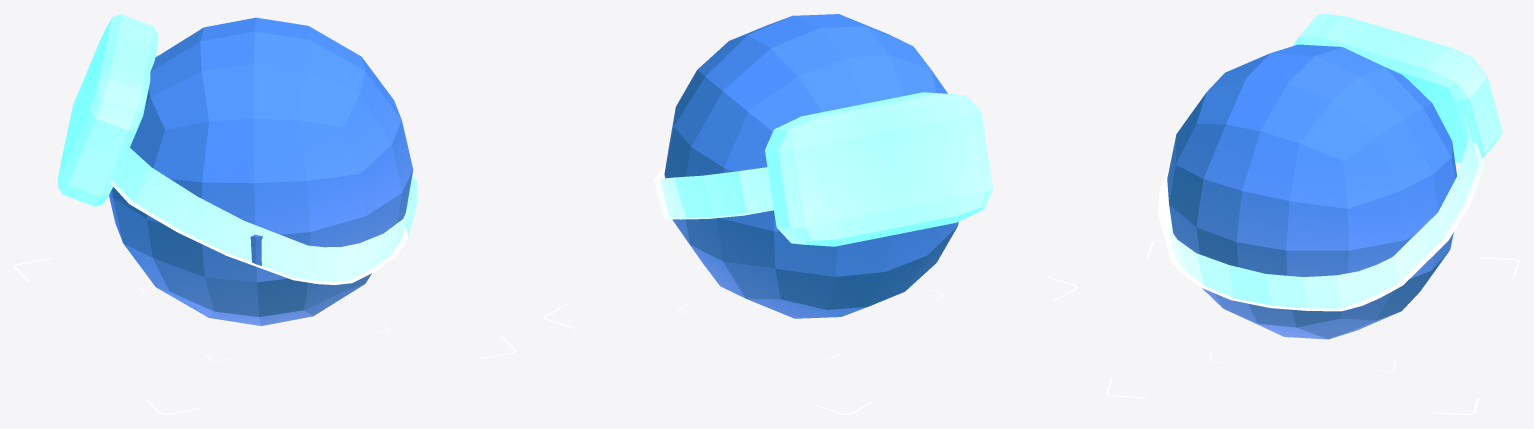
File: ari-web-head-3d.glb
The picture shows the model from 3 angles, left to right: view 1: azimuth 30°, elevation 25°; view 2: azimuth 150°, elevation 25°; view 3: azimuth 270°, elevation 25°; orthographic projection. The views are drawn at different scales.
Parts seen in each view (by area): view 1: Buffer Object, Cube_001, Cube; view 2: Buffer Object, Cube, Cube_001; view 3: Buffer Object, Cube_001, Cube, Placeholder.
Boxes of the visible parts, box(x1,y1,x2,y2) form: Buffer Object: box(109, 17, 413, 325); Cube_001: box(109, 55, 417, 284); Cube: box(57, 14, 158, 206); Buffer Object: box(664, 14, 958, 318); Cube: box(765, 92, 993, 246); Cube_001: box(654, 165, 773, 219); Buffer Object: box(1167, 44, 1456, 339); Cube_001: box(1158, 114, 1484, 311); Cube: box(1293, 14, 1502, 162); Placeholder: box(1106, 240, 1519, 414).
Size of the model in its own units: 1.12 by 0.7997 by 1.11.
Materials: 6 (3 with a texture image).
